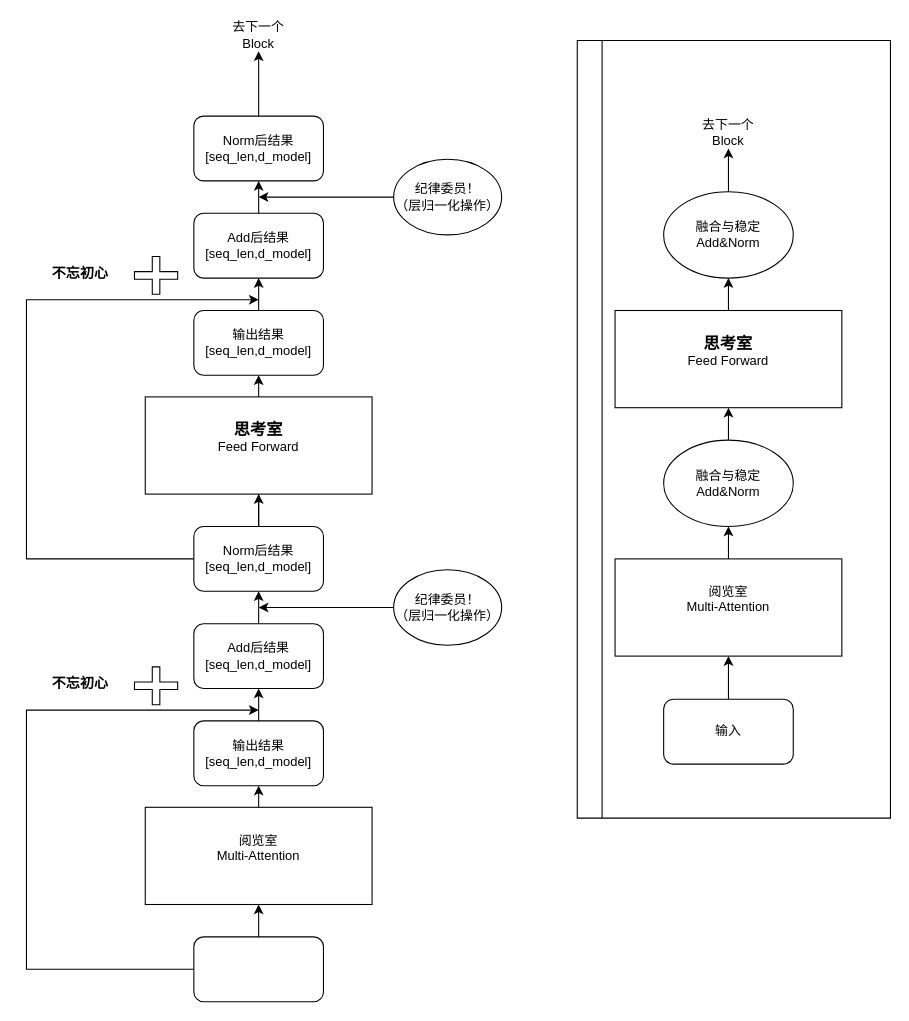
The diagram is 909 pixels wide and 1021 high, and some of its shapes have lost their labels. The shapes that lost their labels are listed below. From the top down, each one's centre as x and y in pixels, then its label:
(733,428): 简化版本
(258,969): 句子向量 [seq_len,d_model]
